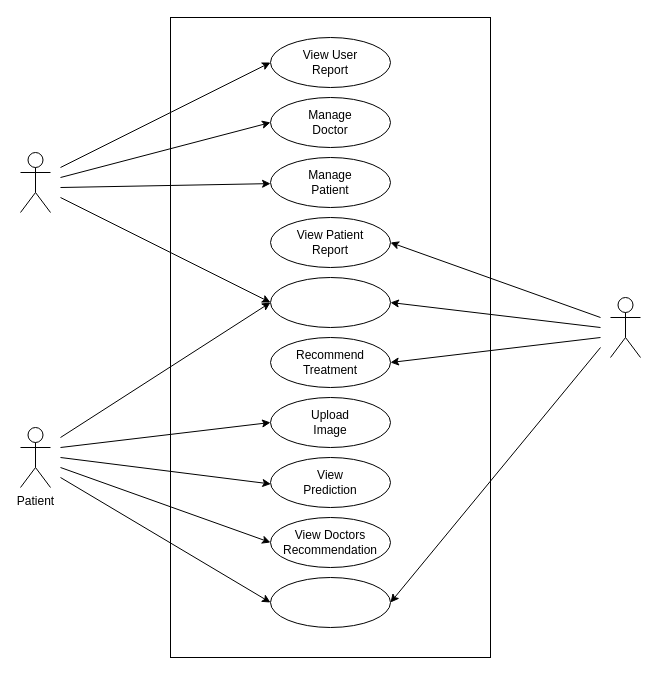
The diagram is 660 pixels wide and 675 high, and some of its shapes have lost their labels. The shapes that lost their labels are listed below. From the top down, each one's centre as x and y in pixels, then its label:
[35,182]: Admin
[330,302]: Login
[625,327]: Doctor
[330,602]: Edit Profile
